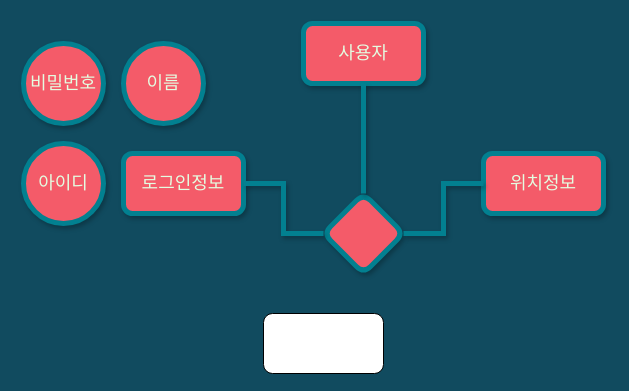
Image size: 629x391. Some labels were removed from this diagram. The shapes that lost their labels are listed below. From the top down, each one's centre as x and y in pixels, then its label:
At (364,234): "소유".
At (323,343): "싸비".
